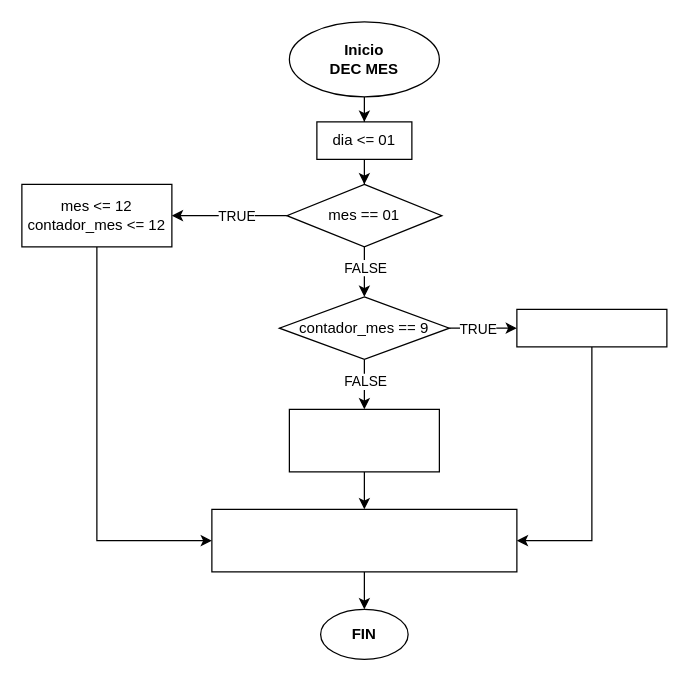
Some shapes in this 689 by 681 pixel diagram are drawn without their labels. The centre of each missing label's shape, as x and y in pixels:
DEC contador_mes max_dia <= Tabla_MaxDia(contador_mes): point (364, 540)
DEC mes_U Guardar mes_U: point (363, 440)
mes <= 09: point (591, 327)
